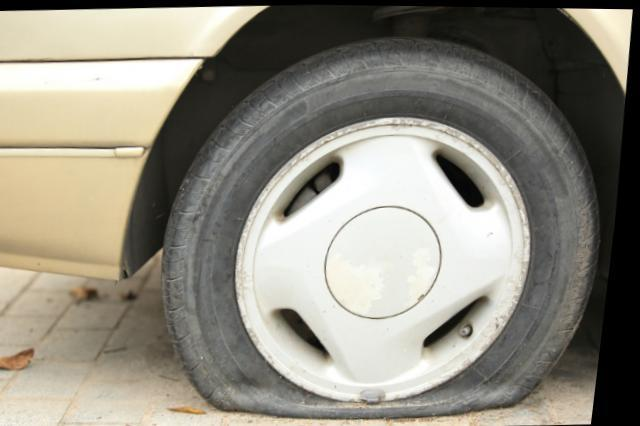tire flat: (165, 36, 608, 418)
